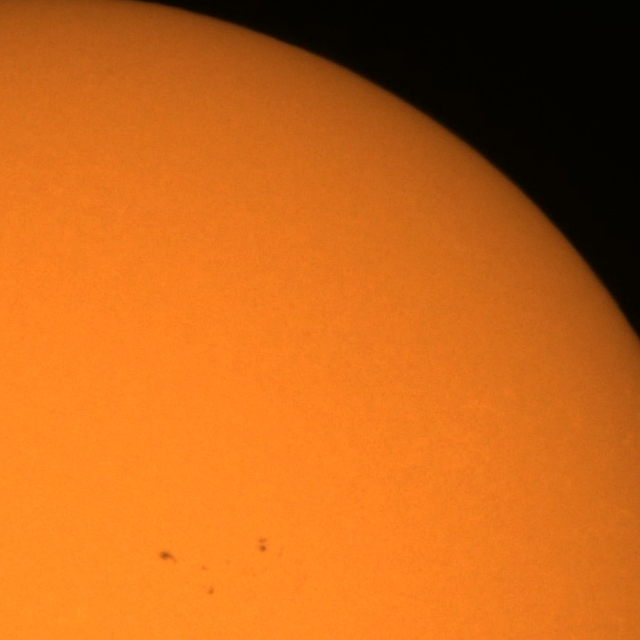sunspot: (157, 549, 180, 565), (256, 536, 269, 554), (205, 586, 216, 598)
